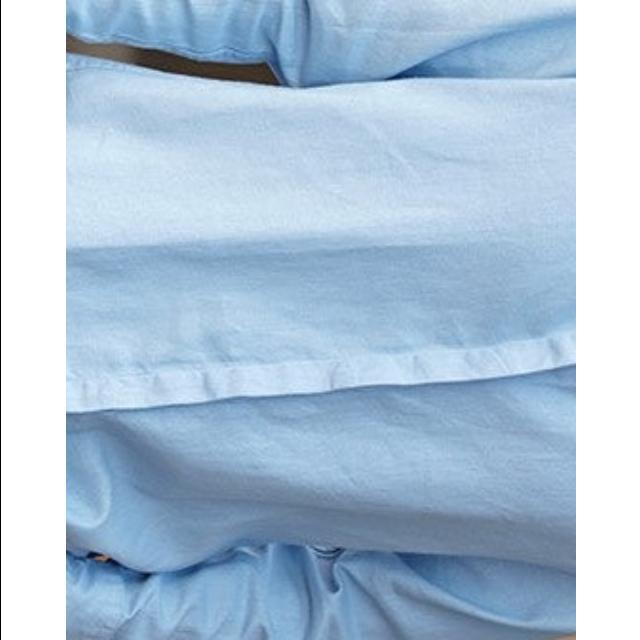linen: (65, 0, 575, 640)
